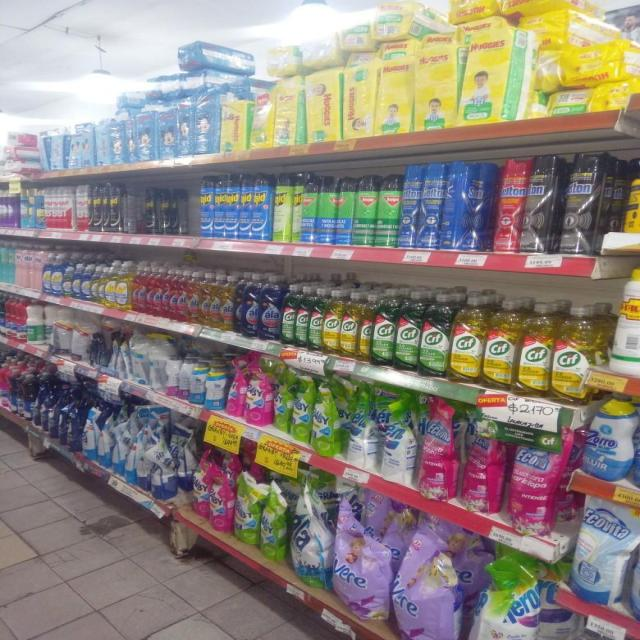ala_conc_amarillo: (220, 275, 234, 332), (188, 271, 199, 325), (210, 274, 220, 330), (200, 272, 210, 327)
ala_conc_azul: (260, 274, 281, 341), (241, 274, 259, 338)
ala_conc_rojo: (131, 263, 147, 313), (172, 270, 187, 322), (150, 266, 163, 316), (160, 269, 171, 319)
cif_conc_bot_amarilla: (552, 303, 594, 403), (518, 300, 551, 396), (484, 298, 517, 391), (451, 293, 484, 384), (341, 291, 358, 358), (324, 289, 341, 355), (358, 291, 372, 362)
cif_conc_botella_verde: (421, 292, 450, 378), (396, 290, 420, 372), (372, 289, 395, 366), (309, 287, 323, 351), (282, 284, 296, 345), (296, 285, 308, 348)
magistral_con_amarillo: (116, 262, 130, 310), (106, 262, 116, 308), (99, 263, 107, 306), (91, 264, 99, 304)
